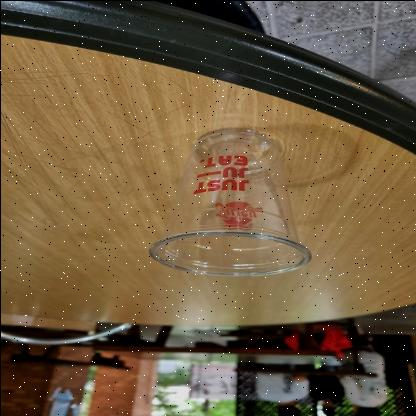Others: (140, 124, 318, 282)
